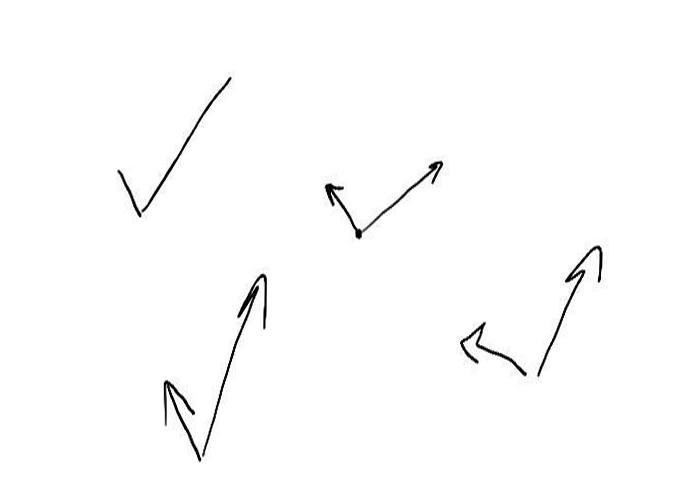arrow: (202, 273, 269, 455), (539, 245, 603, 374), (364, 161, 444, 228), (458, 321, 528, 375), (157, 378, 201, 460), (323, 179, 357, 230)
arrownohead: (141, 75, 233, 212), (116, 169, 139, 216)
